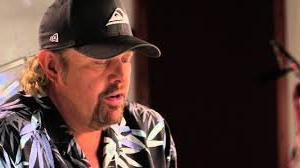Drunk: (87, 53, 129, 124)
